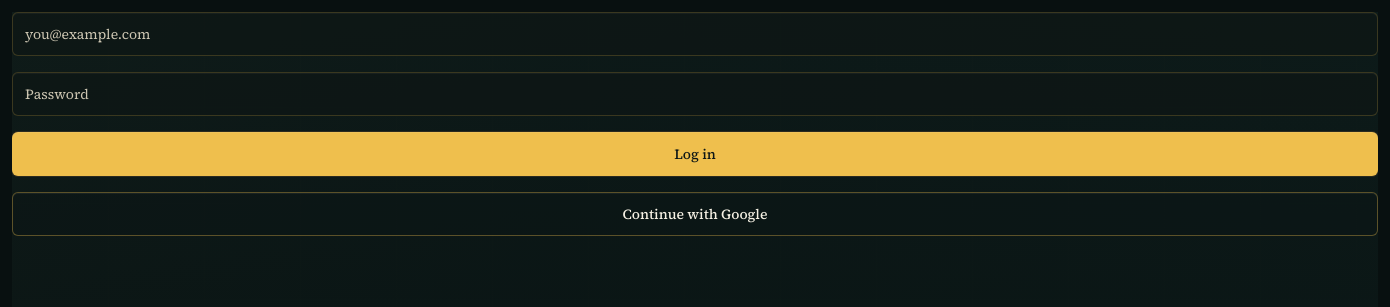
Scenario: AuthForm › shows OAuth errors returned before redirect
What coordinates should you click on to do the following:
click the button "Continue with Google"
I would click on:
 (695, 214)
Its box is [12,192,1378,236].
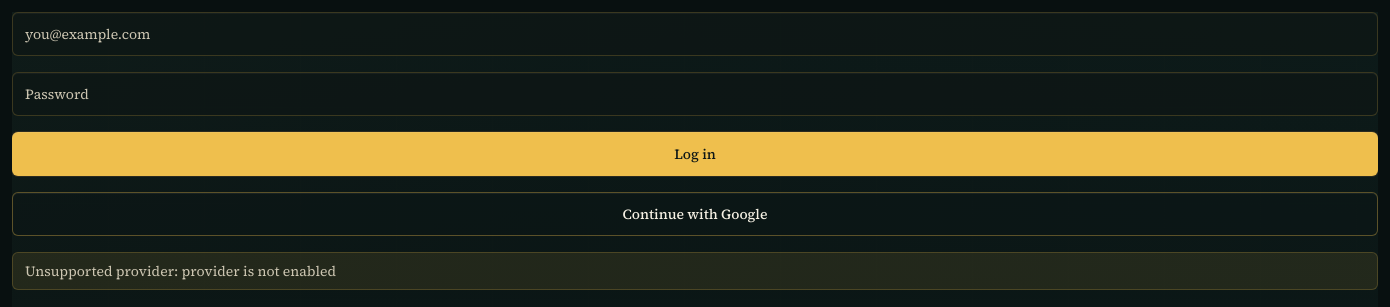
Now the text "Unsupported provider: provider is not enabled" is shown, box [12,252,1378,290]
